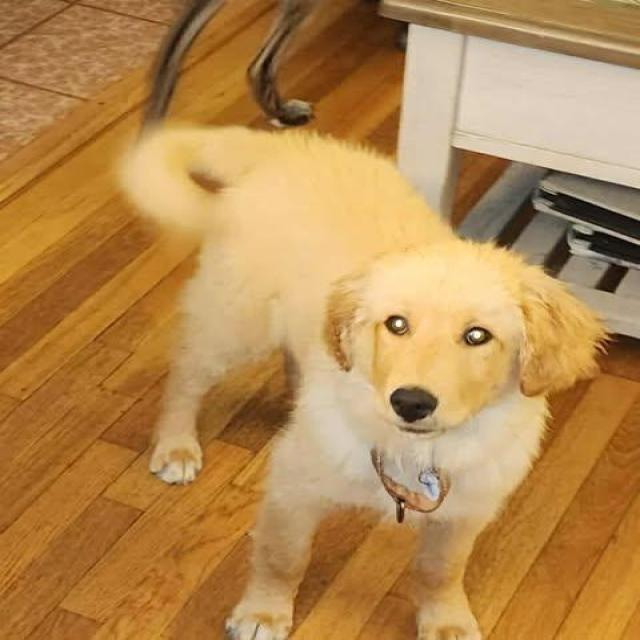golden_retriever_dog: (305, 226, 611, 454)
